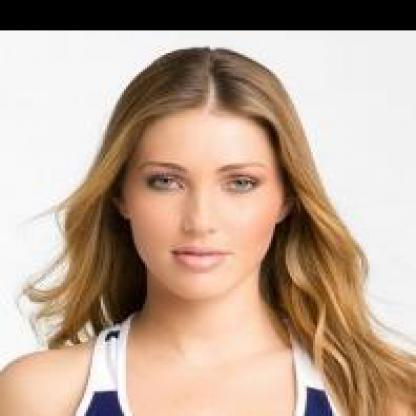long-hair: (27, 300, 374, 342)
